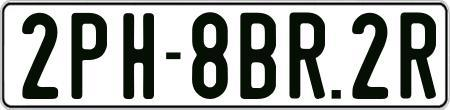2: (21, 13, 63, 100), (352, 11, 389, 98)
8: (189, 12, 231, 105)
B: (239, 12, 280, 98)
H: (122, 12, 158, 100)
P: (69, 11, 104, 103)
R: (400, 10, 437, 100), (290, 11, 326, 100)
